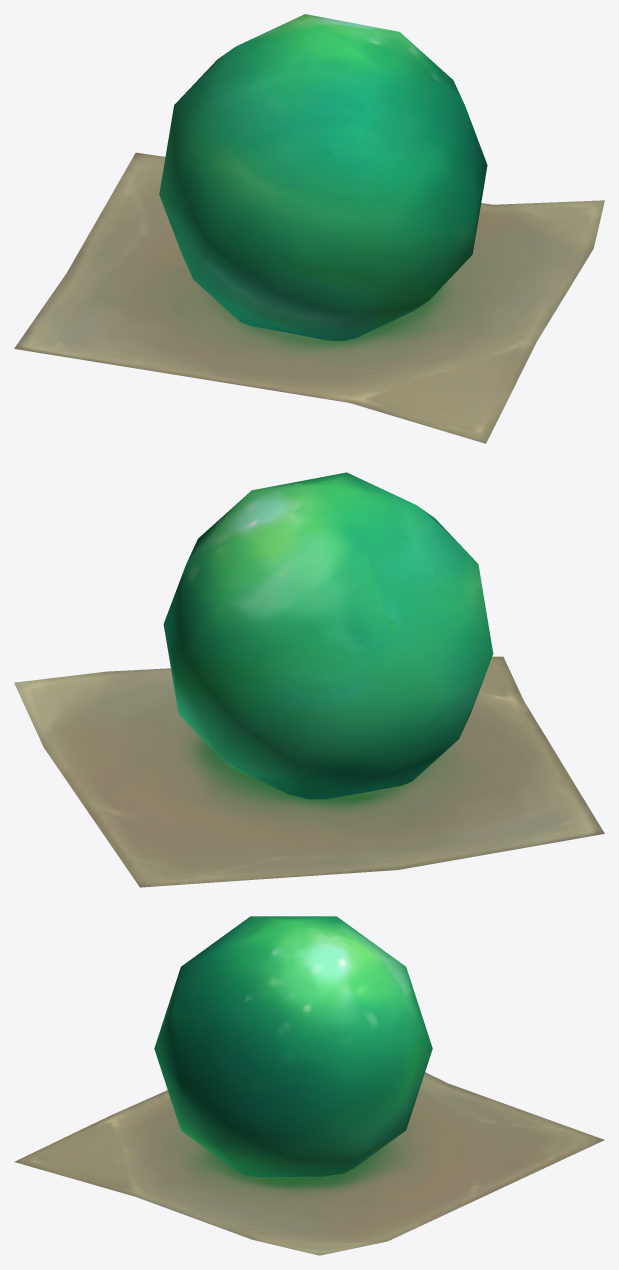
File: danyao.FBX
3 renders of one model, top to bottom at view 1: azimuth 30°, elevation 25°; view 2: azimuth 150°, elevation 25°; view 3: azimuth 270°, elevation 25°, orthographic. The views are drawn at different scales.
Visible parts, largest first — view 1: mod_danyao; view 2: mod_danyao; view 3: mod_danyao.
Boxes of the visible parts, <box> form: mod_danyao: <box>14,14,604,443</box>; mod_danyao: <box>14,472,604,887</box>; mod_danyao: <box>14,916,604,1255</box>.
Bounding box in the file's own units: 32.62 × 15.41 × 34.12.
